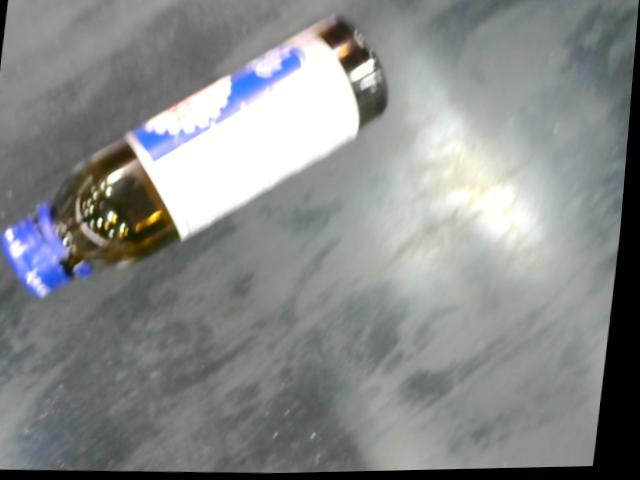glass: (0, 0, 414, 304)
